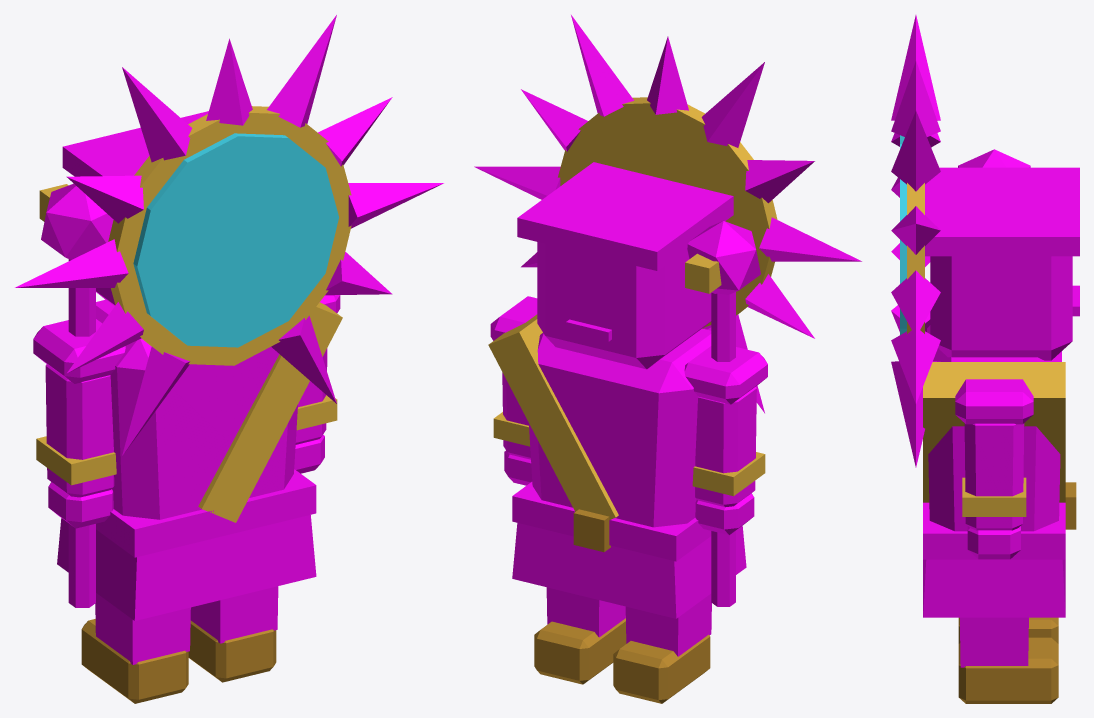
The model's file is CH_GoldenIdol_JadeIdol.fbx.
3 renders of one model, left to right at view 1: azimuth 30°, elevation 25°; view 2: azimuth 150°, elevation 25°; view 3: azimuth 270°, elevation 25°, orthographic. The views are drawn at different scales.
Parts seen in each view (by area): view 1: DiscBack, Body, Skirt, Disc, Sash, Belt, ArmL, BootL, LegL, Orb, Rod, BootR (+19 smaller); view 2: Body, Head, Laurel, Disc, Skirt, Sash, ArmL, Belt, BootL, BootR, Rod, Orb (+20 smaller); view 3: Head, Laurel, Skirt, Sash, Body, ArmR, BootR, Belt, LegR, PauldronR, Ray4, Ray1 (+12 smaller).
Part boxes in pixels (x1,y1,x2,y2): DiscBack: (133, 133, 338, 347); Body: (96, 299, 297, 519); Skirt: (57, 515, 316, 620); Disc: (108, 106, 351, 365); Sash: (198, 302, 342, 522); Belt: (96, 469, 316, 557); ArmL: (45, 364, 114, 497); BootL: (81, 619, 188, 703); LegL: (95, 593, 190, 664); Orb: (41, 183, 113, 259); Rod: (68, 259, 95, 607); BootR: (188, 620, 276, 682); Body: (529, 328, 711, 527); Head: (537, 200, 711, 369); Laurel: (517, 162, 733, 270); Disc: (558, 97, 777, 328); Skirt: (512, 523, 746, 618); Sash: (488, 314, 618, 519); ArmL: (695, 386, 756, 507); Belt: (512, 482, 711, 561); BootL: (613, 634, 710, 703); BootR: (534, 618, 626, 684); Rod: (711, 292, 735, 606); Orb: (687, 221, 760, 294); Head: (930, 198, 1072, 360); Laurel: (925, 167, 1079, 256); Skirt: (923, 559, 1065, 617); Sash: (923, 362, 1065, 502); Body: (927, 325, 1061, 531); ArmR: (964, 423, 1024, 530); BootR: (958, 637, 1058, 703); Belt: (923, 502, 1065, 559); LegR: (960, 617, 1028, 667); PauldronR: (955, 379, 1033, 424); Ray4: (891, 111, 940, 191); Ray1: (891, 330, 940, 403).
Size of the model in its own units: 1.28 by 0.53 by 1.9.
